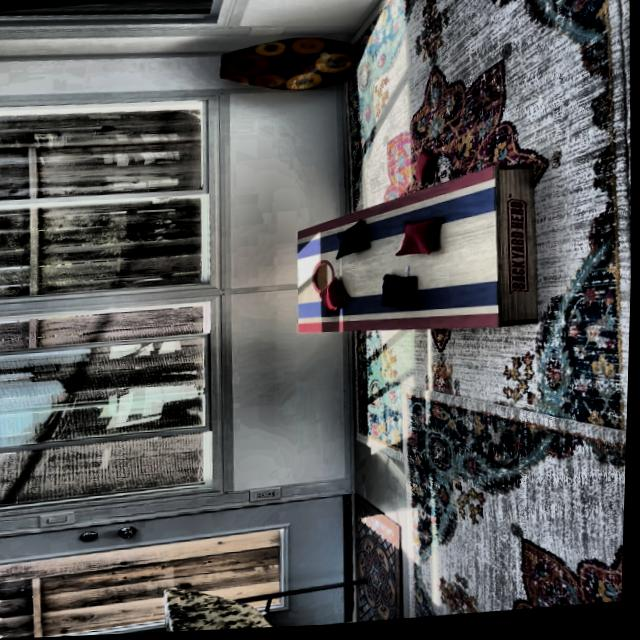blue-bean-bag: (333, 221, 372, 263), (378, 276, 418, 314)
board: (296, 205, 502, 339)
hole: (310, 262, 337, 298)
red-bean-bag: (394, 221, 442, 261), (317, 279, 350, 321), (411, 151, 440, 187)
